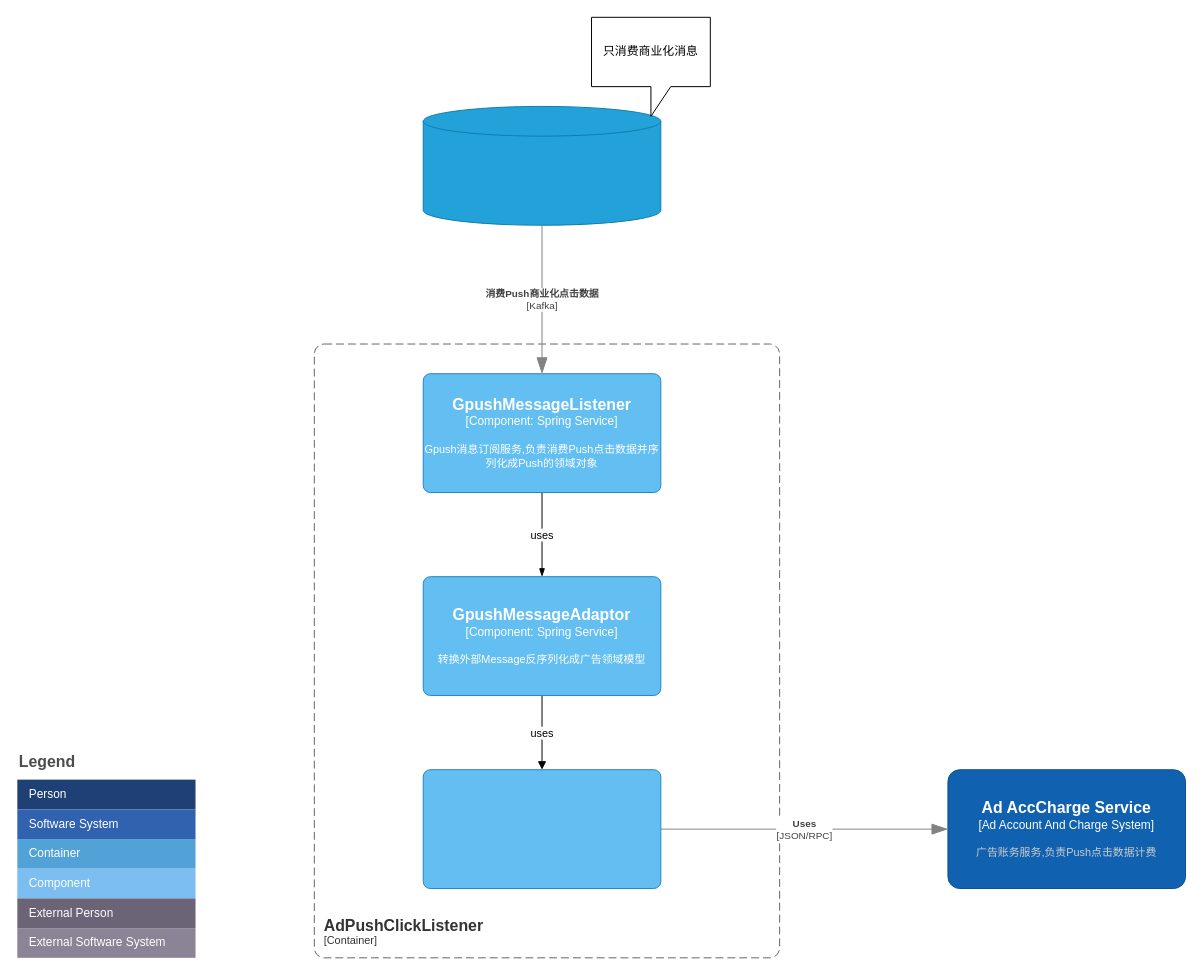
Some shapes in this 1203 by 975 pixel diagram are drawn without their labels. The shapes that lost their labels are listed below. From the top down, each one's box as (x1, y1, x2, y2) in pixels, then its label:
(422, 105, 661, 225): Gpush Ad Click [MQ: Kafka] Push商业化推广计划消息队列,负责用于商业化push计费订阅
(422, 769, 661, 889): ChageInvokeService [Component: Spring Service] 负责聚合日志计费
